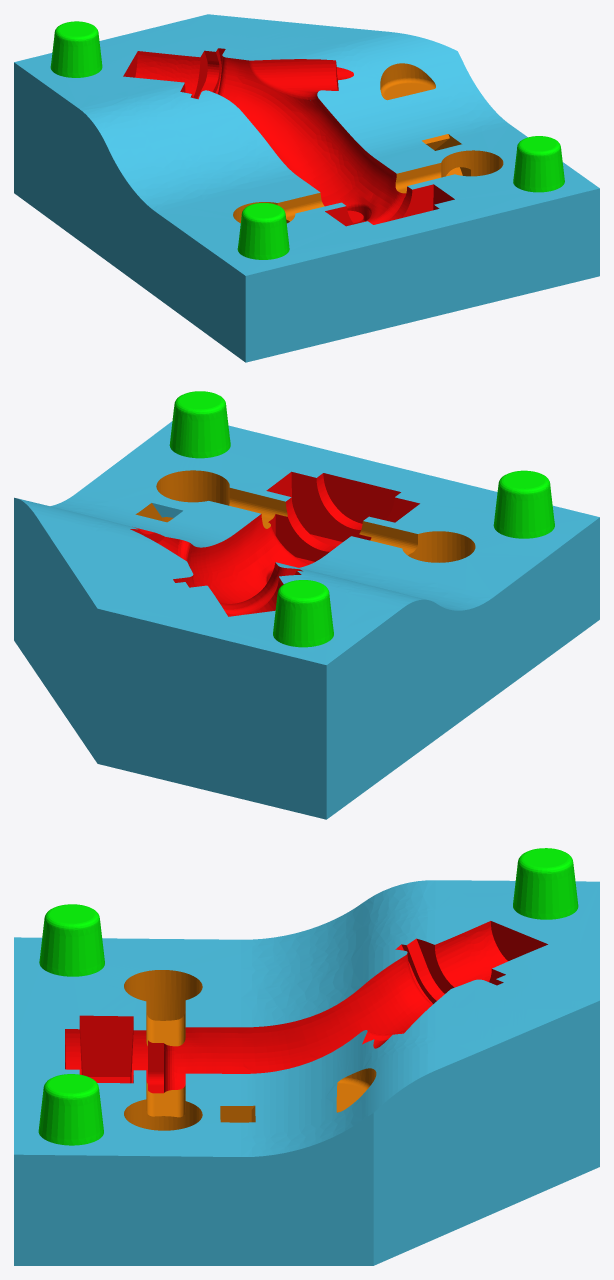
Rendered from sand_mold.dae.
The picture shows the model from 3 angles, top to bottom: view 1: azimuth 30°, elevation 25°; view 2: azimuth 150°, elevation 25°; view 3: azimuth 270°, elevation 25°; orthographic projection. The views are drawn at different scales.
Visible parts, largest first — view 1: Sand Mold; view 2: Sand Mold; view 3: Sand Mold.
Boxes of the visible parts, x1=… form: Sand Mold: x1=14, y1=14, x2=599, y2=362; Sand Mold: x1=14, y1=391, x2=599, y2=819; Sand Mold: x1=14, y1=848, x2=599, y2=1265.
Size of the model in its own units: 0.2481 by 0.2809 by 0.1134.
